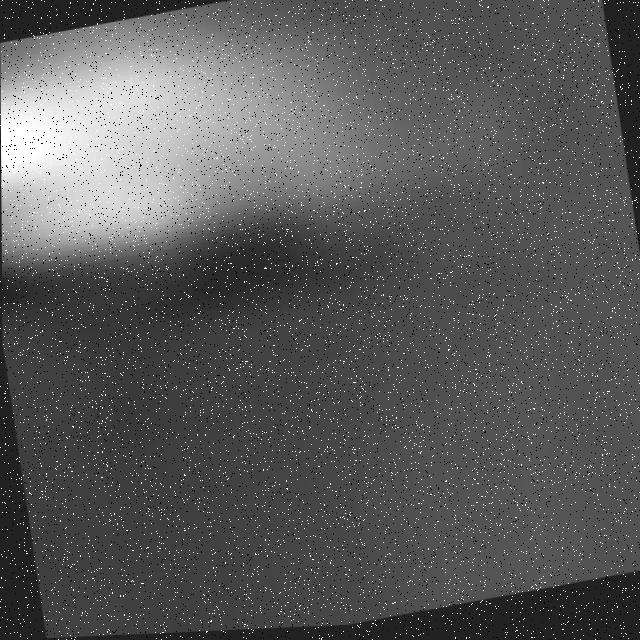person: (1, 1, 473, 307)
